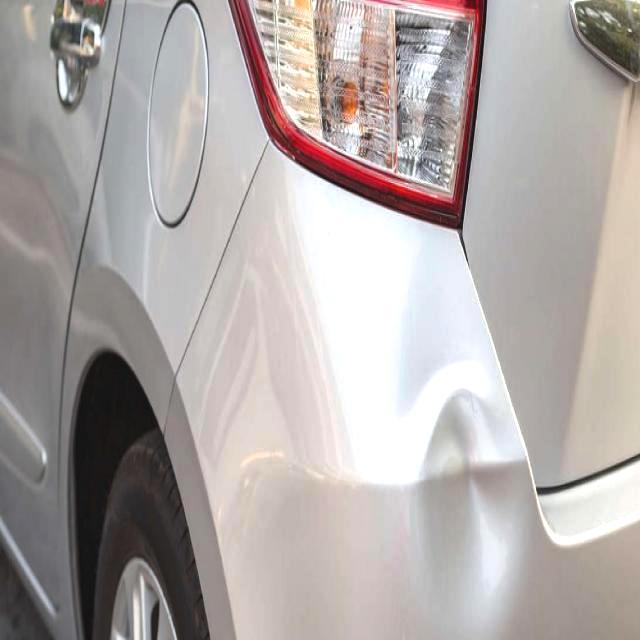minor: (396, 340, 533, 631)
